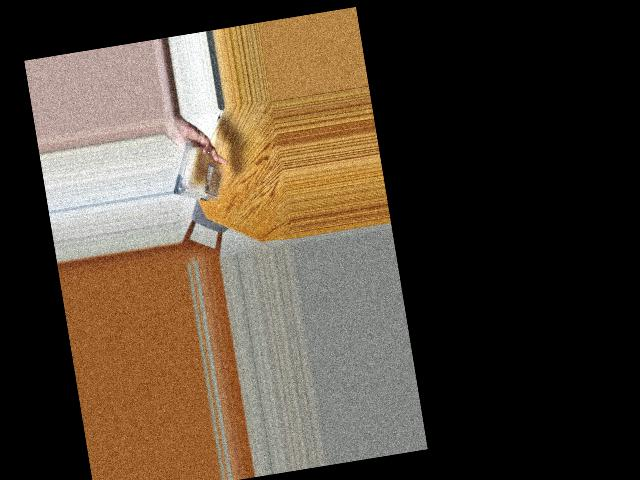cheese: (171, 143, 226, 205)
